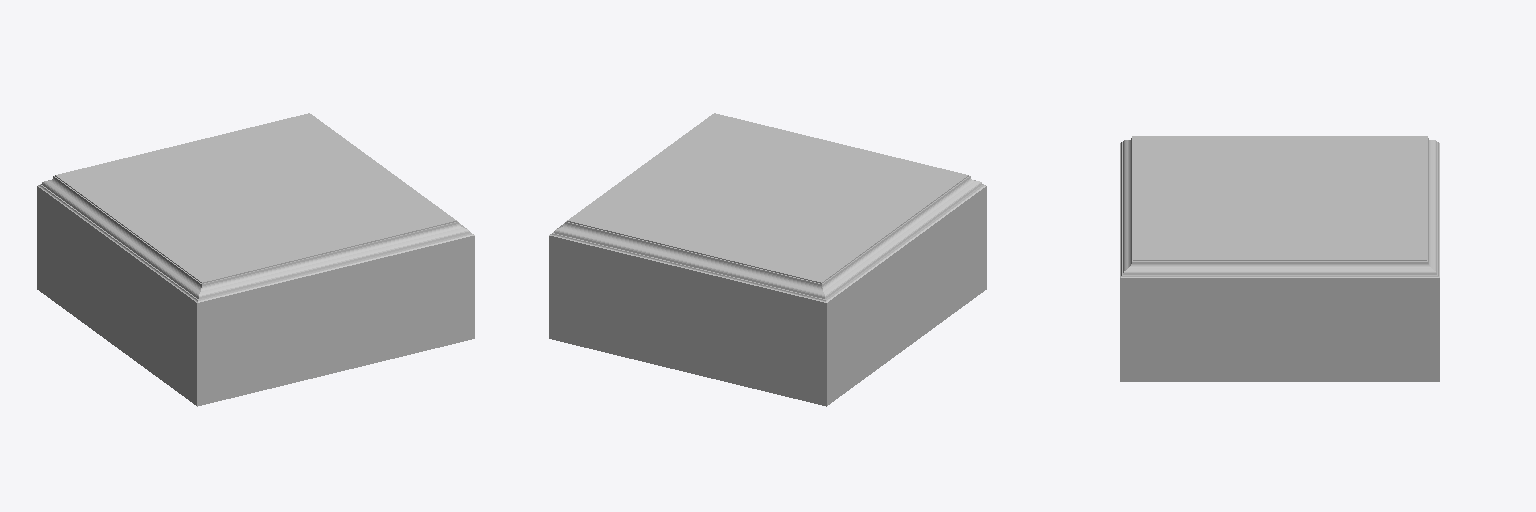
File: foot.obj
3 views of the same model, side by side, from view 1: azimuth 30°, elevation 25°; view 2: azimuth 150°, elevation 25°; view 3: azimuth 270°, elevation 25° (orthographic).
Visible parts, largest first — view 1: Cube.003; view 2: Cube.003; view 3: Cube.003.
Part boxes in pixels (left/top/right/bottom): Cube.003: left=37, top=113, right=474, bottom=406; Cube.003: left=549, top=113, right=986, bottom=406; Cube.003: left=1120, top=136, right=1439, bottom=381.
Bounding box in the file's own units: 1 × 0.4 × 1.